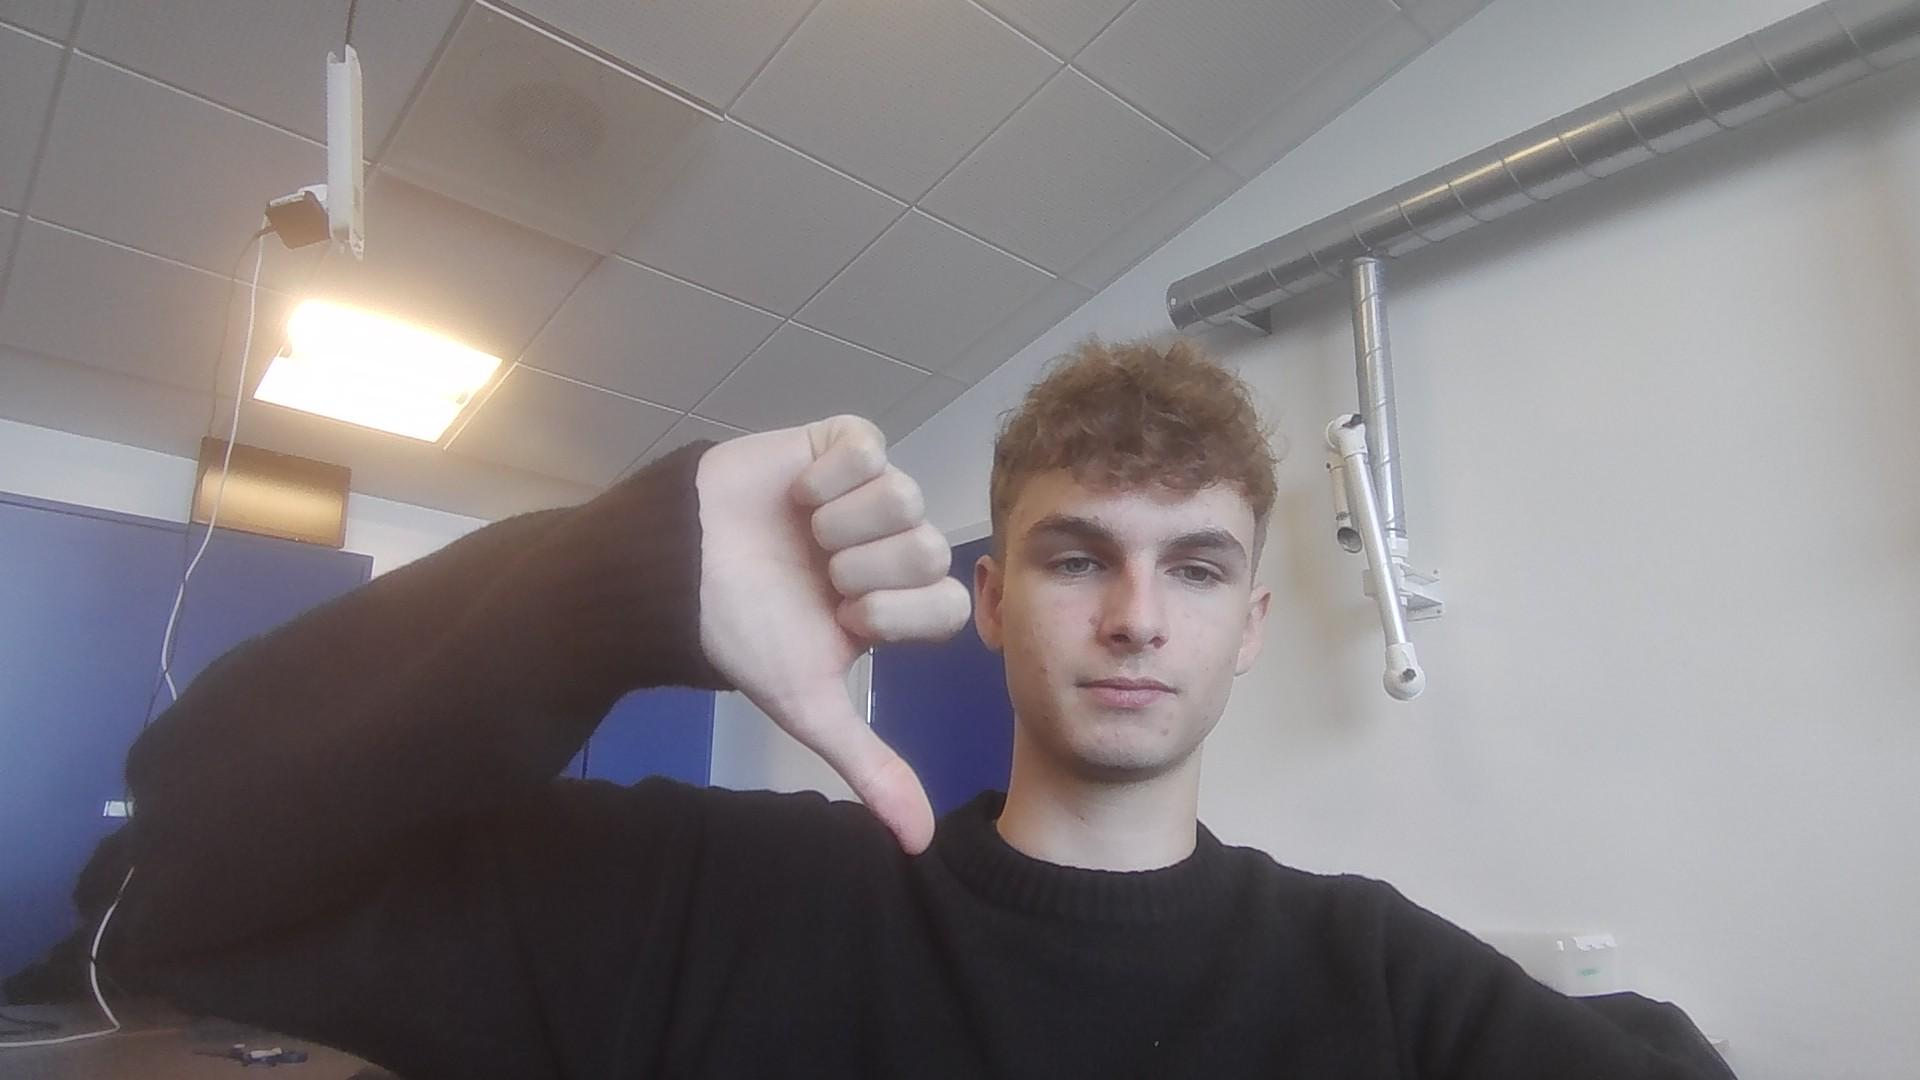thumbs down: (684, 409, 981, 856)
